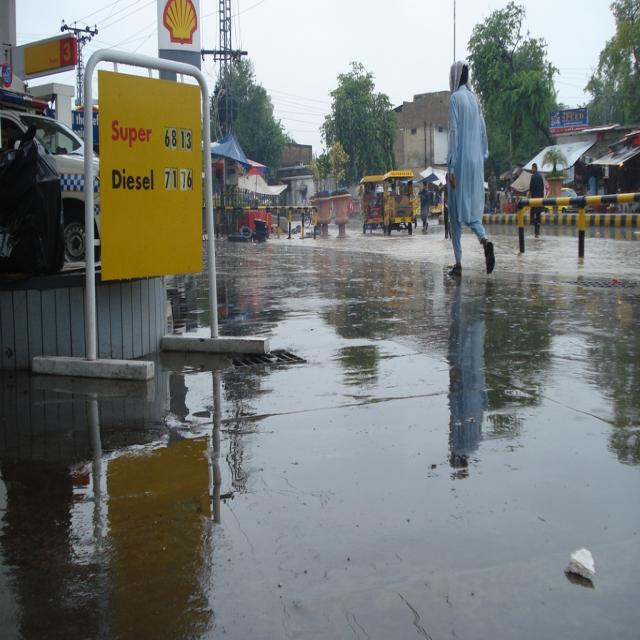shell: (164, 2, 199, 48)
